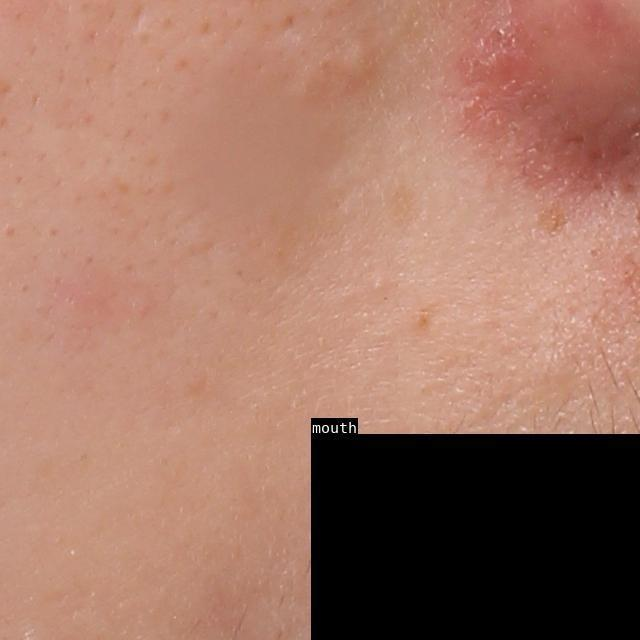comedo: (338, 29, 391, 84), (584, 243, 601, 261)
